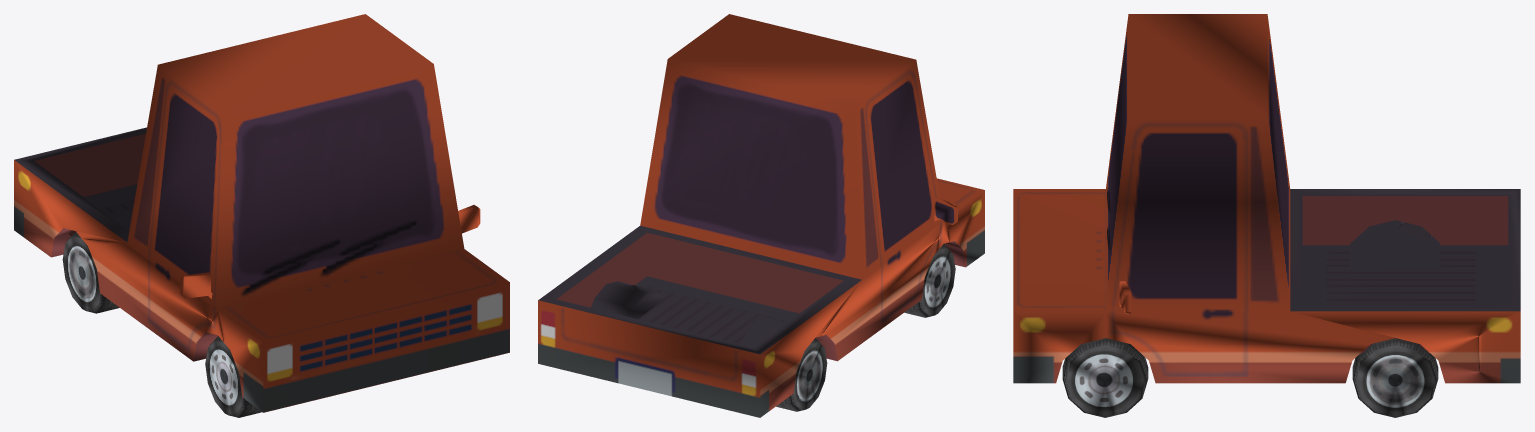
Rendered from pick-up_2.gltf.
3 views of the same model, side by side, from view 1: azimuth 30°, elevation 25°; view 2: azimuth 150°, elevation 25°; view 3: azimuth 270°, elevation 25° (orthographic). The views are drawn at different scales.
Visible parts, largest first — view 1: Low_Poly_Vehicles_pickupTruck02; view 2: Low_Poly_Vehicles_pickupTruck02; view 3: Low_Poly_Vehicles_pickupTruck02.
Part boxes in pixels (x1,y1,x2,y2): Low_Poly_Vehicles_pickupTruck02: (14,14,509,417); Low_Poly_Vehicles_pickupTruck02: (538,14,984,417); Low_Poly_Vehicles_pickupTruck02: (1013,14,1520,417).
Bounding box in the file's own units: 24.16 × 22.5 × 35.05.
1 material, 1 textured.
